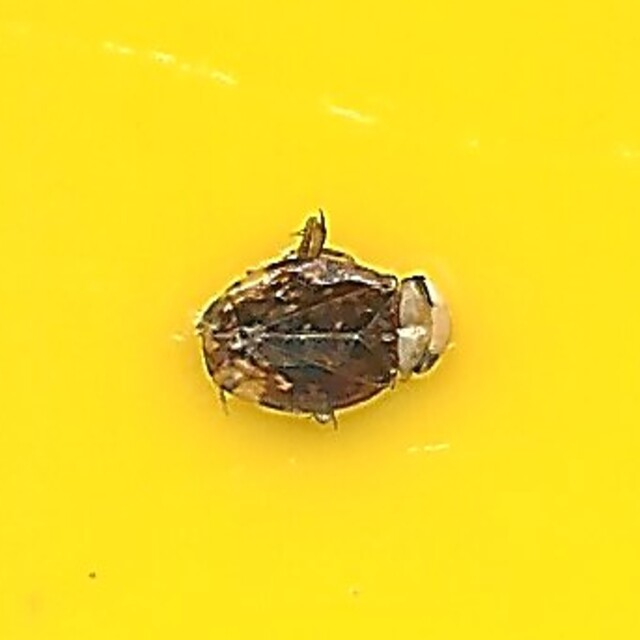Hemiptera: (187, 211, 453, 429)
